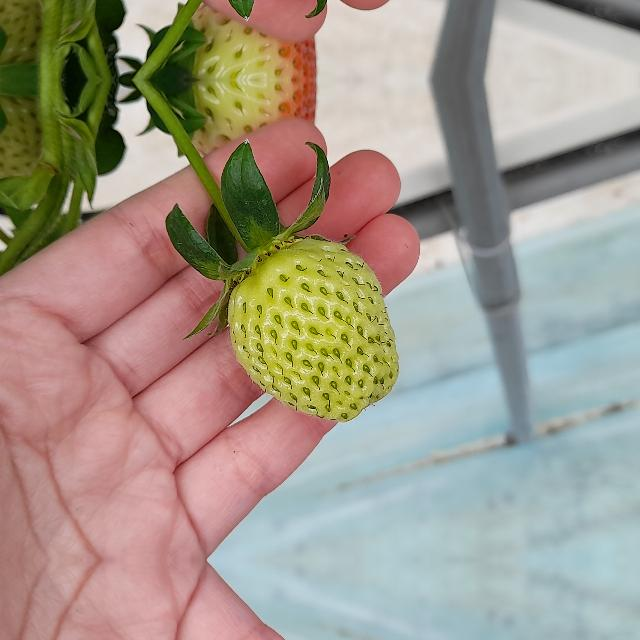Health_25: (227, 238, 399, 422)
